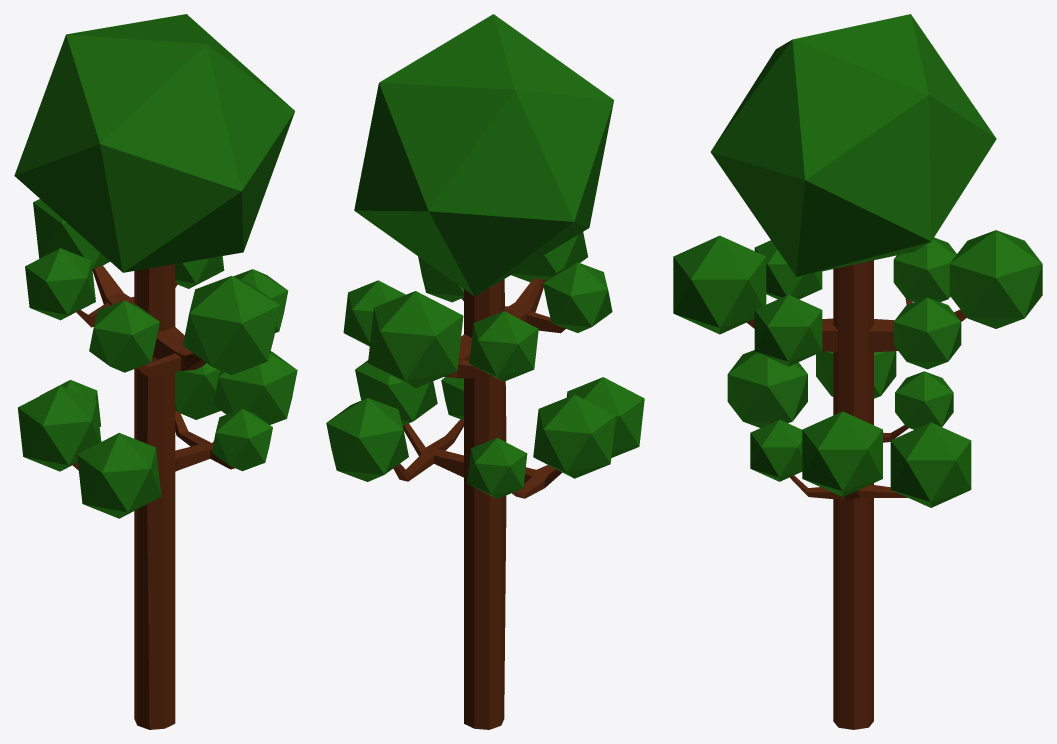
The model's file is Tree_1.fbx.
3 renders of one model, left to right at view 1: azimuth 30°, elevation 25°; view 2: azimuth 150°, elevation 25°; view 3: azimuth 270°, elevation 25°, orthographic. The views are drawn at different scales.
Visible parts, largest first — view 1: Icosphere.006, Tree, Icosphere.003, Leaf.001, Leaf, Leaf.003, Icosphere.001, Icosphere.005, Leaf.004, Icosphere.002, Leaf.005, Icosphere (+1 smaller); view 2: Icosphere.006, Tree, Icosphere.002, Leaf, Leaf.005, Icosphere.001, Icosphere.005, Leaf.002, Leaf.001, Leaf.003, Icosphere, Icosphere.003 (+2 smaller); view 3: Icosphere.006, Tree, Icosphere.003, Icosphere.002, Leaf.005, Leaf.003, Leaf.001, Icosphere.004, Icosphere, Icosphere.001, Leaf.004, Leaf.002 (+2 smaller).
Boxes of the visible parts, <box> form: Icosphere.006: <box>14,14,294,272</box>; Tree: <box>72,264,234,729</box>; Icosphere.003: <box>183,276,280,374</box>; Leaf.001: <box>77,432,161,518</box>; Leaf: <box>18,385,101,471</box>; Leaf.003: <box>213,351,297,424</box>; Icosphere.001: <box>25,248,95,320</box>; Icosphere.005: <box>89,300,159,372</box>; Leaf.004: <box>211,408,272,471</box>; Icosphere.002: <box>33,199,109,269</box>; Leaf.005: <box>175,363,220,419</box>; Icosphere: <box>175,256,224,288</box>; Icosphere.006: <box>354,14,613,296</box>; Tree: <box>393,278,565,729</box>; Icosphere.002: <box>368,291,463,387</box>; Leaf: <box>533,394,615,478</box>; Leaf.005: <box>326,398,408,481</box>; Icosphere.001: <box>469,311,538,381</box>; Icosphere.005: <box>543,262,612,332</box>; Leaf.002: <box>467,438,527,498</box>; Leaf.001: <box>566,377,644,457</box>; Leaf.003: <box>355,360,437,425</box>; Icosphere: <box>343,280,405,346</box>; Icosphere.003: <box>511,232,587,282</box>; Icosphere.006: <box>710,14,996,276</box>; Tree: <box>746,260,966,729</box>; Icosphere.003: <box>673,235,766,334</box>; Icosphere.002: <box>949,230,1042,328</box>; Leaf.005: <box>890,422,971,507</box>; Leaf.003: <box>802,411,882,496</box>; Leaf.001: <box>727,350,807,427</box>; Icosphere.004: <box>754,294,822,366</box>; Icosphere: <box>893,297,961,369</box>; Icosphere.001: <box>893,237,956,301</box>; Leaf.004: <box>750,419,802,481</box>; Leaf.002: <box>895,371,953,429</box>.
Bounding box in the file's own units: 181 × 458 × 221.
